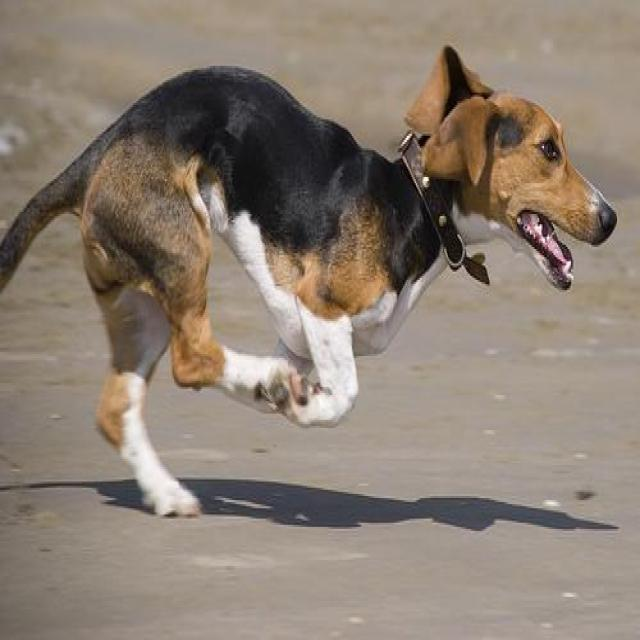beagle: (1, 45, 618, 525)
